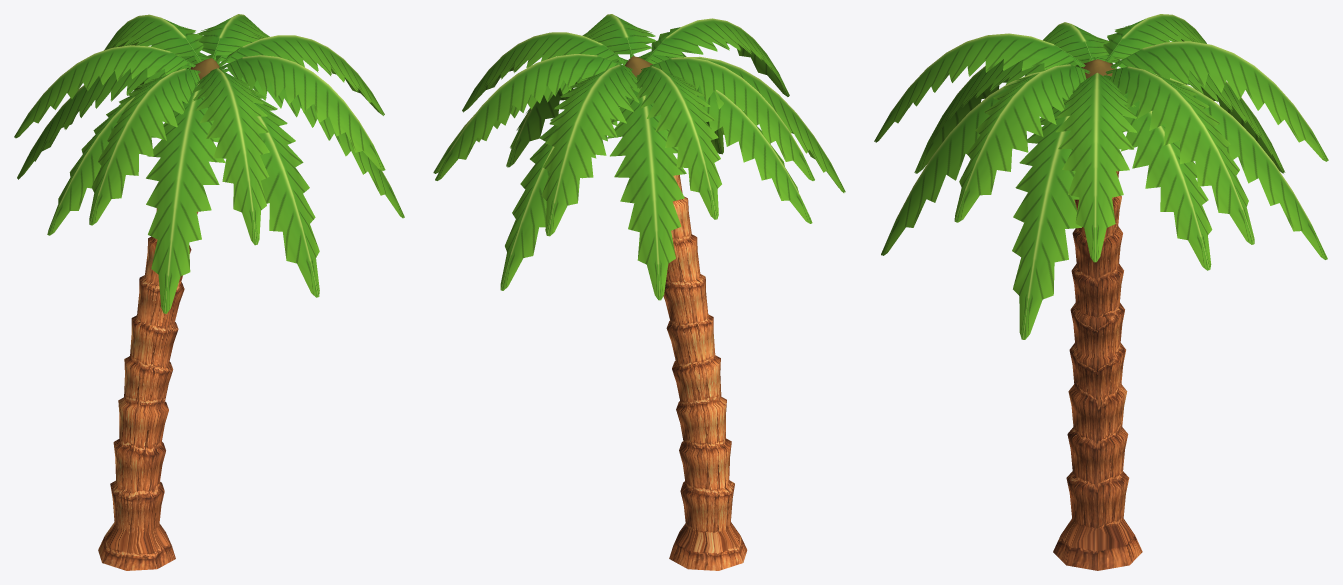
File: Kit_PalmA.obj
3 renders of one model, left to right at view 1: azimuth 30°, elevation 25°; view 2: azimuth 150°, elevation 25°; view 3: azimuth 270°, elevation 25°, orthographic. The views are drawn at different scales.
Parts seen in each view (by area): view 1: Kit_PalmA; view 2: Kit_PalmA; view 3: Kit_PalmA.
Part boxes in pixels (x1,y1,x2,y2): Kit_PalmA: (14,14,404,570); Kit_PalmA: (433,14,845,570); Kit_PalmA: (874,14,1328,570).
Size of the model in its own units: 25.89 by 35.35 by 26.66.
Materials: 1 (1 with a texture image).
